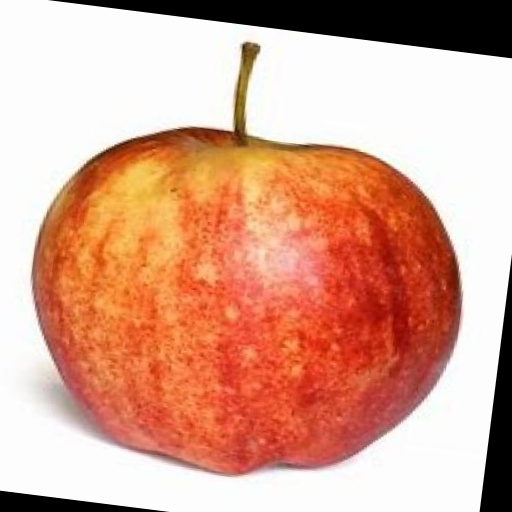fruit: (33, 44, 460, 473)
